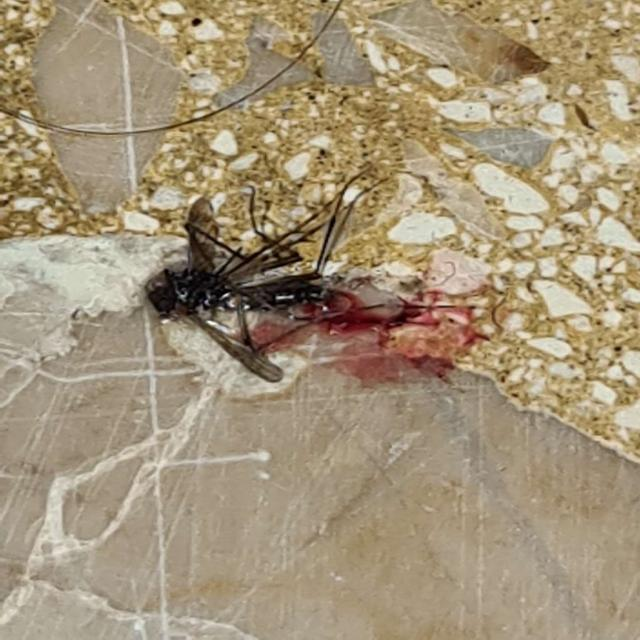albopictus: (107, 145, 454, 396)
